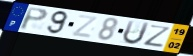8: (96, 18, 120, 43)
9: (45, 10, 70, 36)
P: (18, 7, 49, 32)
U: (122, 20, 151, 46)
Z: (70, 14, 100, 40), (143, 24, 173, 48)
